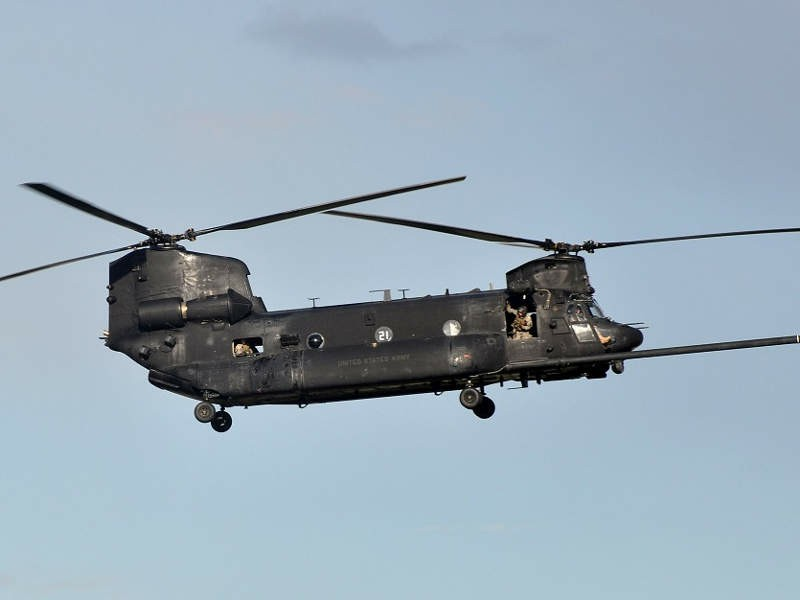chinook: (21, 182, 788, 435)
